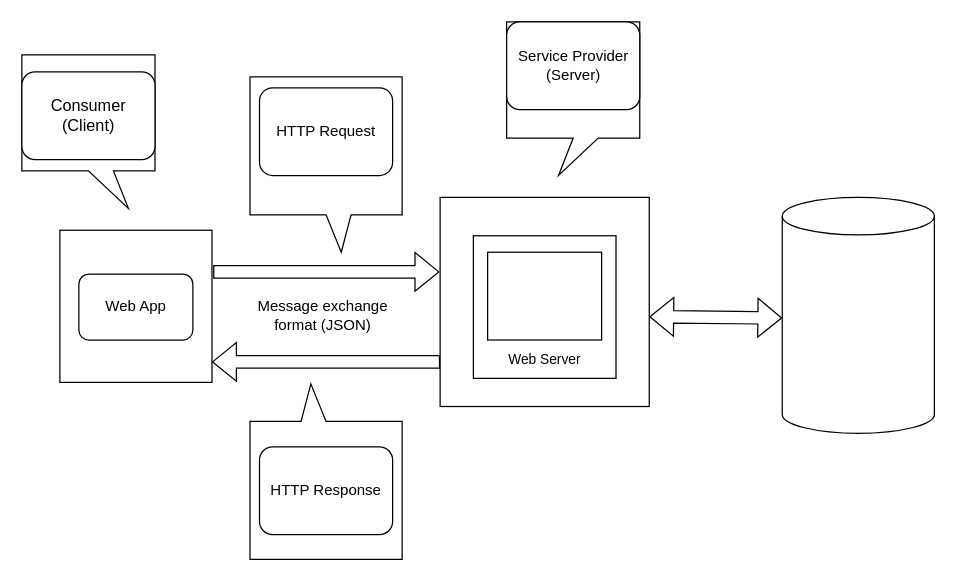
This 956x581 diagram has some shape labels left out. The shapes that lost their labels are listed below. From the top down, each one's centre as x and y in pixels, then its label:
the point at 544,295: REST APIs
the point at 857,314: Database
